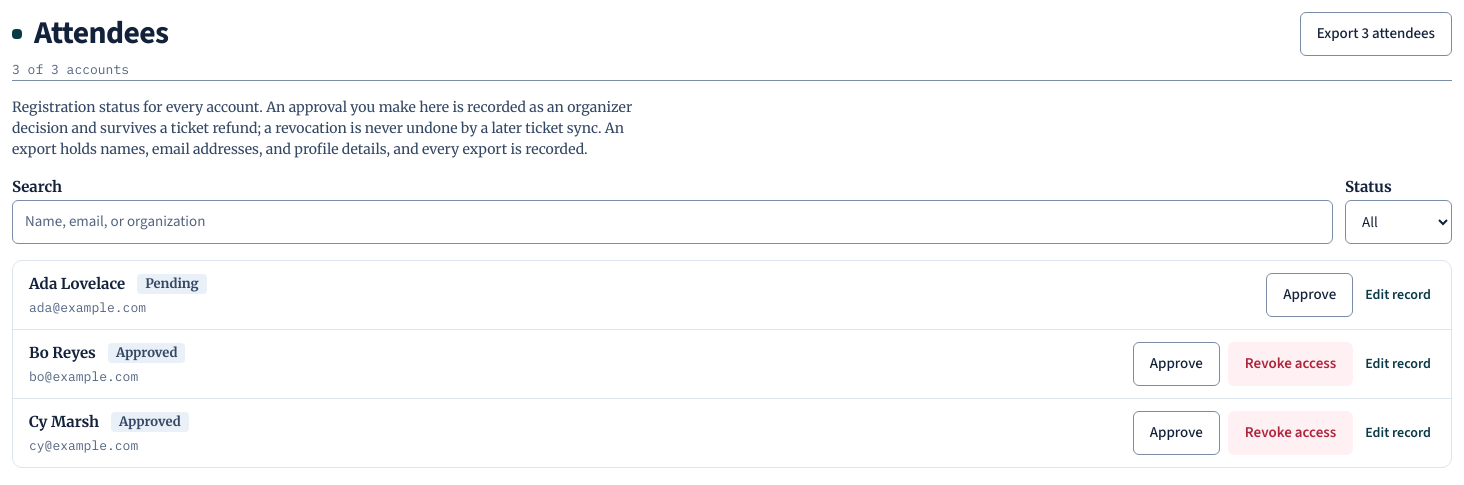
AdminAttendees export › renders once the list has loaded, and counts the rows on screen
expect the button "Export 3 attendees" is shown: met, box [1300,12,1452,56]
Select "Approved" in the dropdown labelled "Status" at (1398, 222), box [1345,200,1452,244]
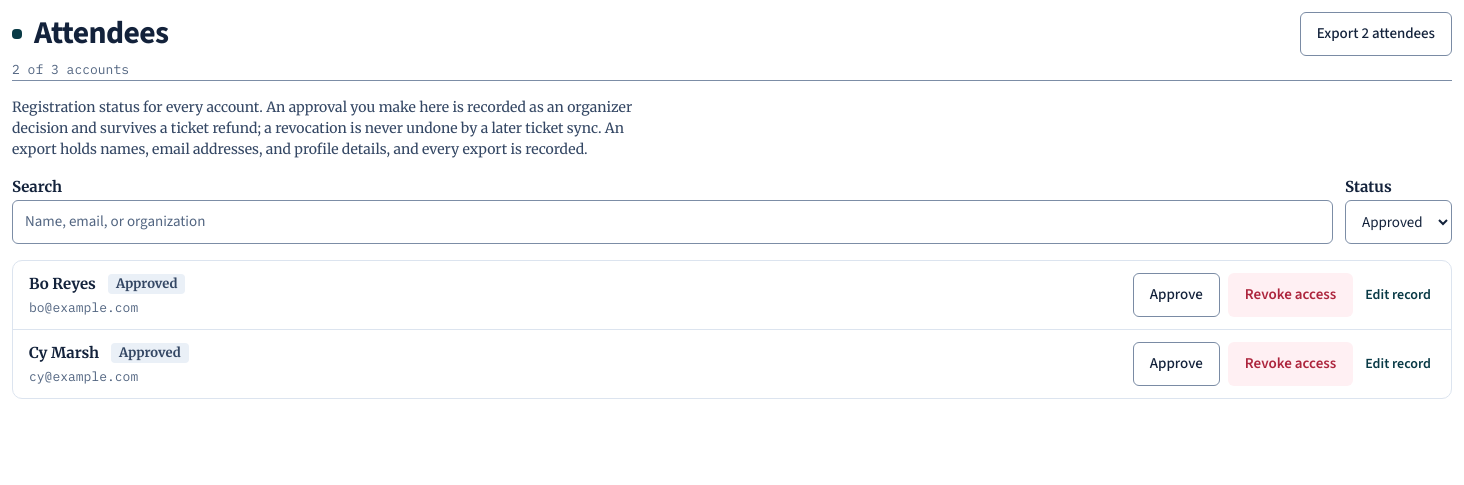
expect the button "Export 2 attendees" is shown: met, box [1300,12,1452,56]
Type "bo@" into the search field labelled "Search" at (672, 222), box [12,200,1333,244]
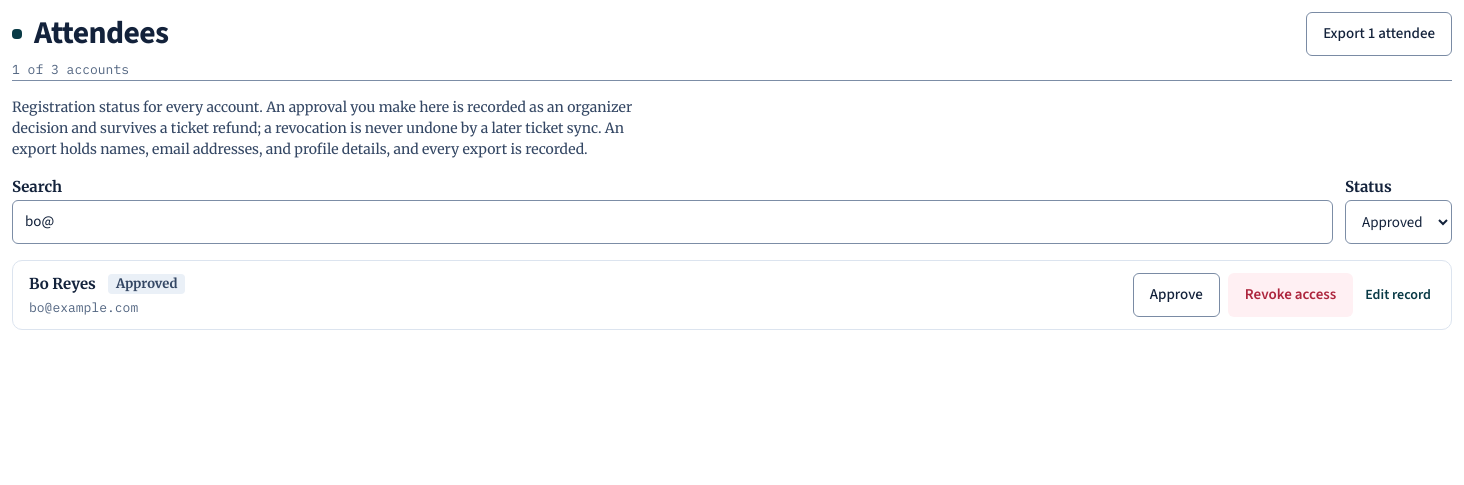
expect the button "Export 1 attendee" is shown: met, box [1306,12,1452,56]
